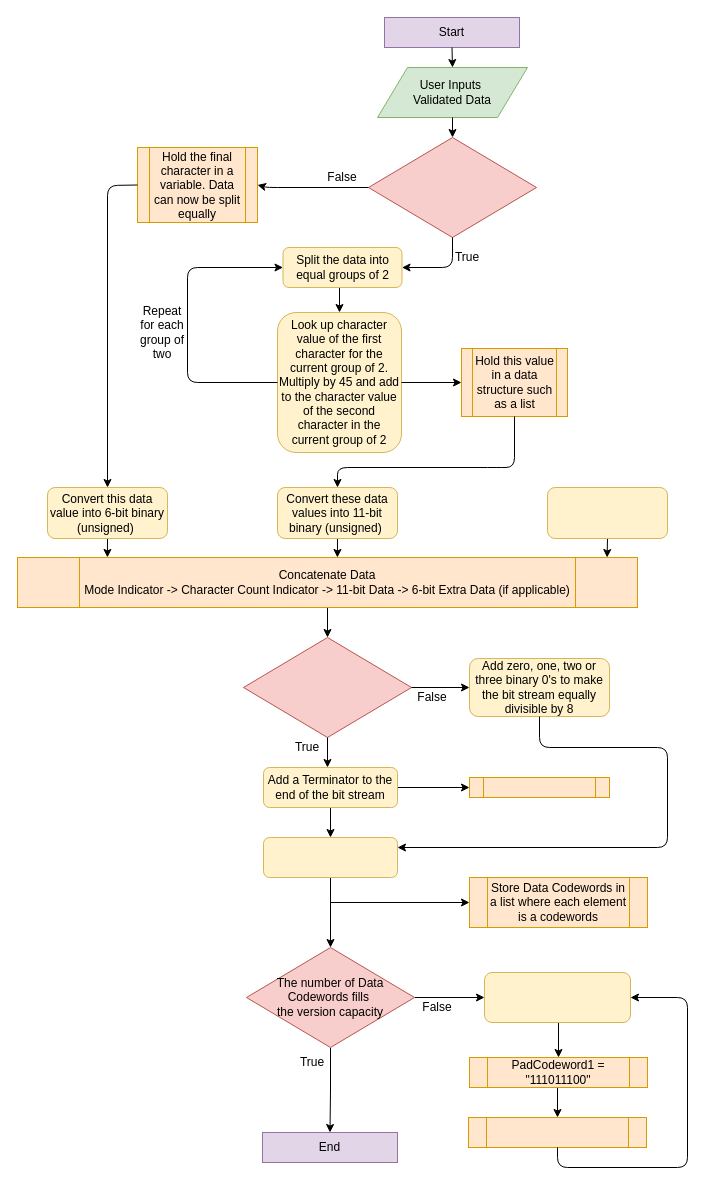
Some shapes in this 713 by 1193 pixel diagram are drawn without their labels. The centre of each missing label's shape, as x and y in pixels:
Alternately add Pad Codewords until Version Capacity filled: (x=557, y=997)
Check IF the Data can be split into equal groups of 2: (x=452, y=187)
Convert the Character Count into 9-bit binary: (x=607, y=512)
IF there is 4 or more bits available in the version capacity: (x=327, y=687)
PadCodeword2 = "00010001": (x=557, y=1132)
Split the bit stream into 8-bit Data Codewords: (x=330, y=857)
Terminator = "0000": (x=539, y=787)
